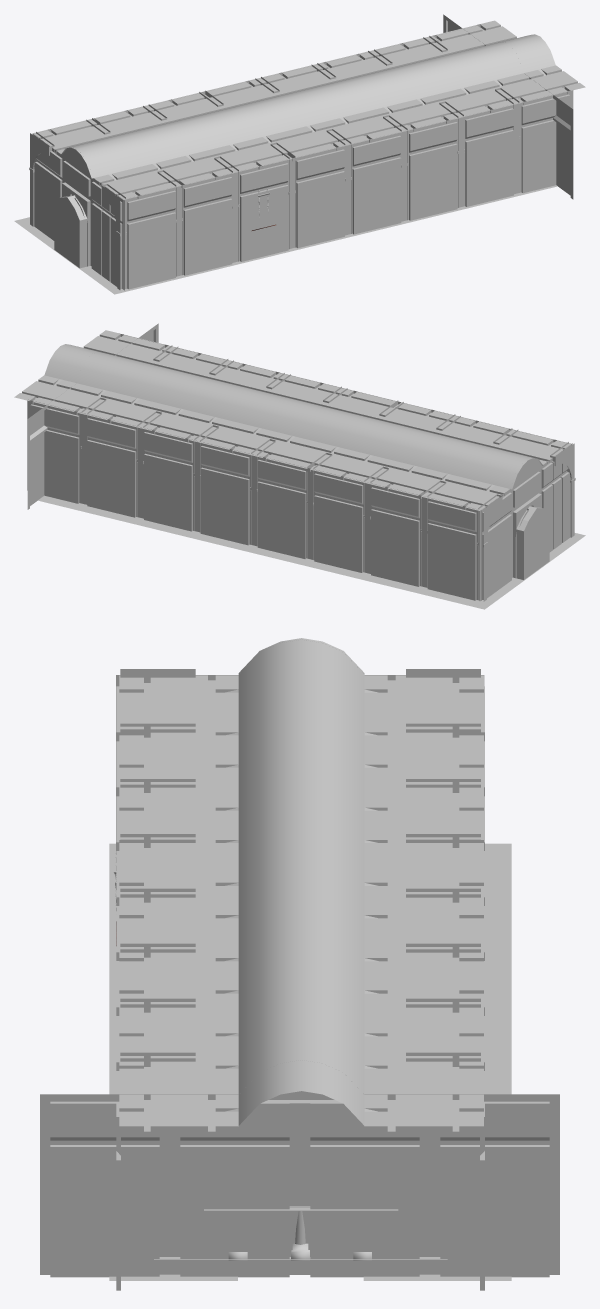
Rendered from AssetsEntrega.fbx.
The picture shows the model from 3 angles, top to bottom: view 1: azimuth 30°, elevation 25°; view 2: azimuth 150°, elevation 25°; view 3: azimuth 270°, elevation 25°; orthographic projection. The views are drawn at different scales.
Parts seen in each view (by area): view 1: ParedeDir, Teto, TetoCurvo, Plane, Pilastras, Chao, ParedeFundo; view 2: ParedeEsq, Teto, TetoCurvo, Plane, Chao, Pilastras, ParedeFundo; view 3: Teto, ParedeFundo, TetoCurvo, Pilastras, Chao, ParedeDir, ParedeEsq, Altar.
Boxes of the visible parts, x1,y1,x2,y2 form: ParedeDir: (123,90,573,289); Teto: (32,20,585,199); TetoCurvo: (60,34,555,178); Plane: (32,134,124,290); Pilastras: (29,36,520,289); Chao: (14,185,557,294); ParedeFundo: (443,14,573,199); ParedeEsq: (27,399,481,600); Teto: (14,330,571,510); TetoCurvo: (44,344,543,489); Plane: (479,443,572,601); Chao: (38,495,585,609); Pilastras: (80,345,575,601); ParedeFundo: (27,323,158,509); Teto: (119,675,483,1131); ParedeFundo: (40,1094,559,1277); TetoCurvo: (238,638,364,1125); Pilastras: (120,669,480,1066); Chao: (109,843,511,1280); ParedeDir: (116,686,120,1290); ParedeEsq: (480,686,484,1290); Altar: (228,1206,371,1260).
Size of the model in its own units: 1934 by 432 by 919.
